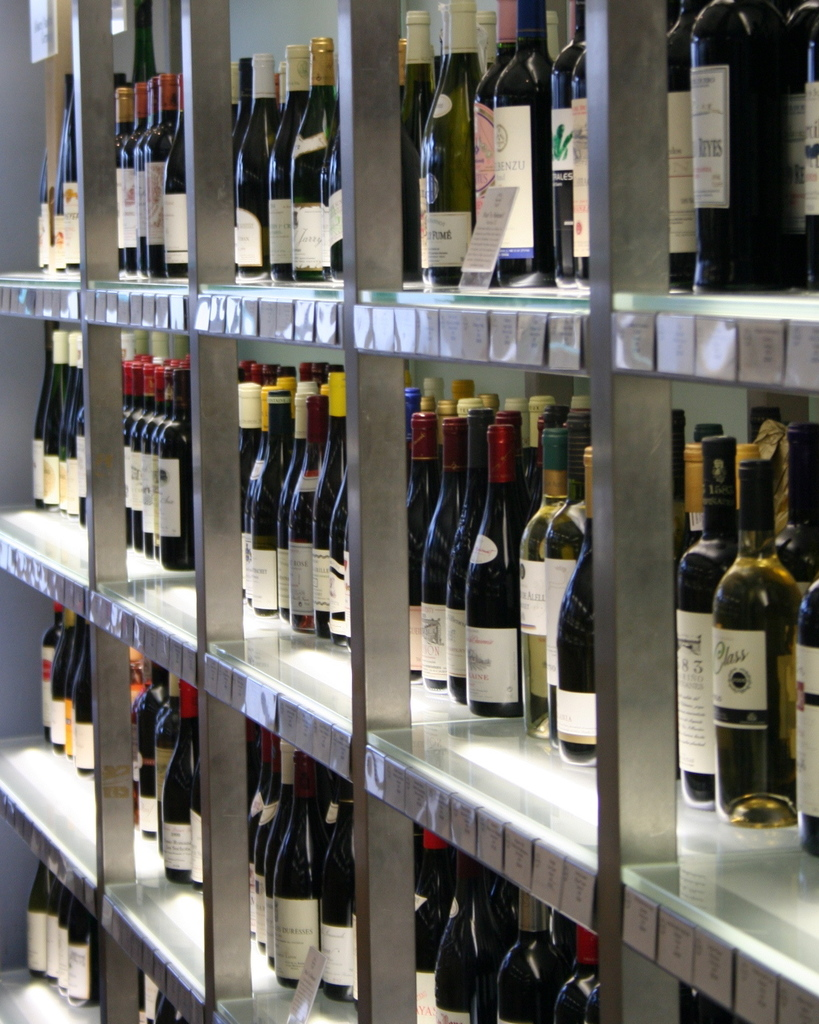can: (23, 0, 819, 1024)
